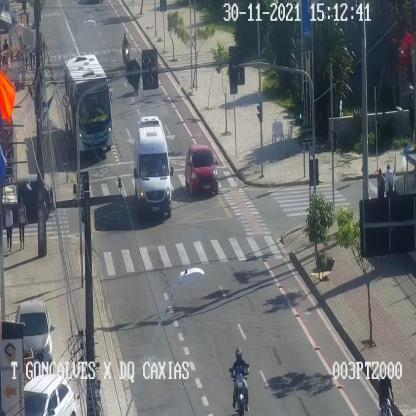bicycle: (378, 368, 394, 416)
bus: (64, 53, 113, 150)
car: (135, 120, 171, 216), (15, 301, 53, 372), (23, 374, 76, 415), (2, 177, 50, 218), (185, 145, 218, 194)
motorbike: (230, 348, 249, 415), (132, 57, 142, 94), (122, 32, 130, 66)
person: (18, 198, 28, 250), (4, 199, 14, 251), (384, 164, 394, 197), (377, 168, 385, 197)
